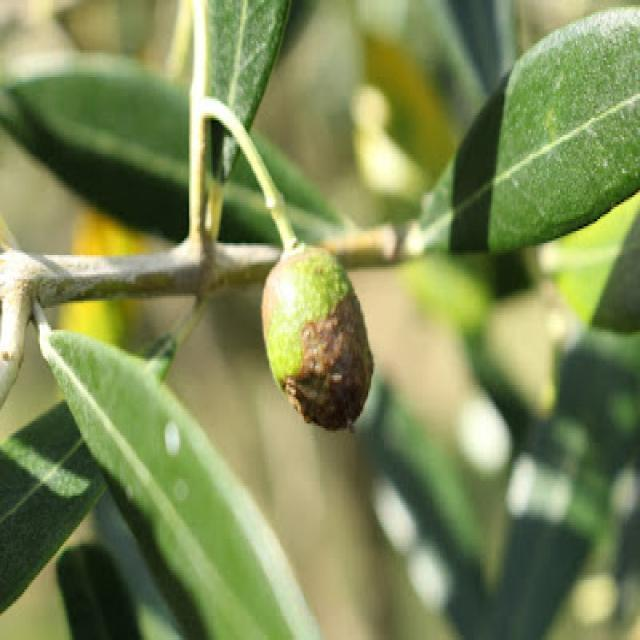Anthracnose: (261, 243, 373, 428)
